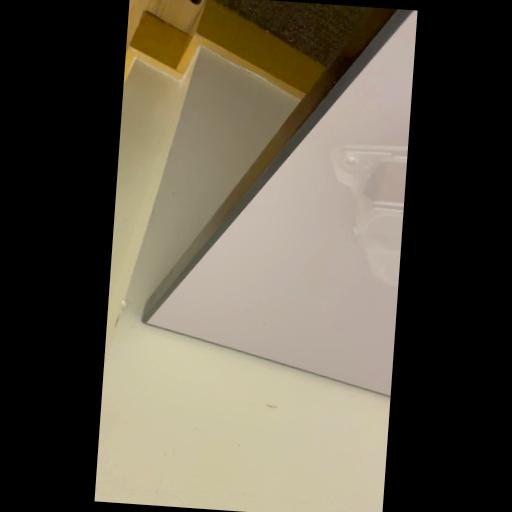small_plastic_container: (320, 141, 408, 286)
